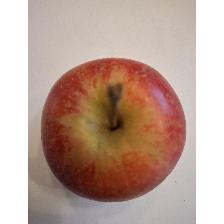Apfel: (36, 52, 190, 204)
